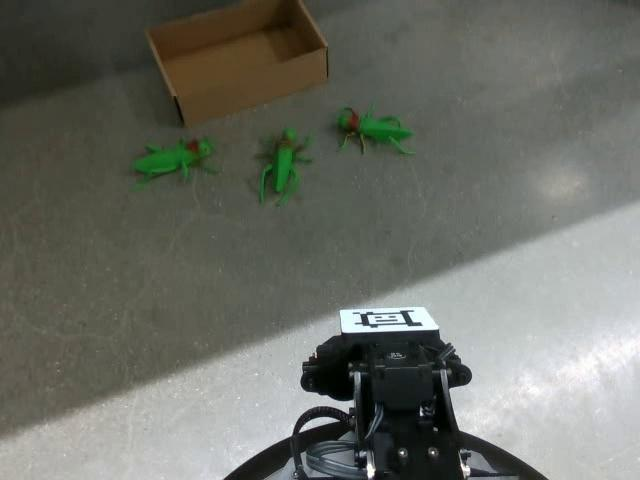box: (143, 0, 329, 128)
grasshopper: (253, 126, 312, 207), (334, 103, 416, 155), (131, 134, 217, 182)
